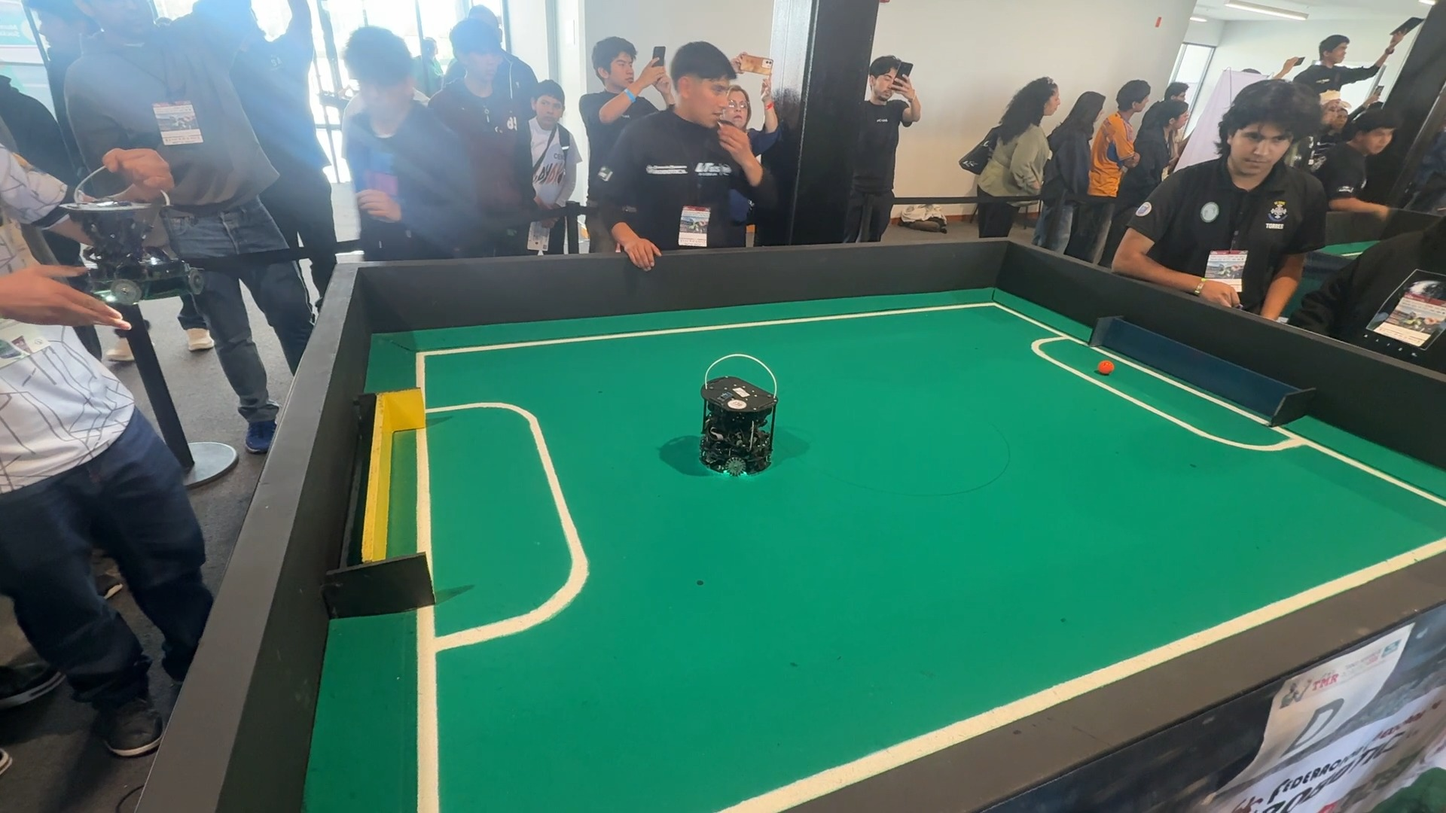Robot: (663, 357, 803, 493)
pelota: (1095, 360, 1119, 378)
